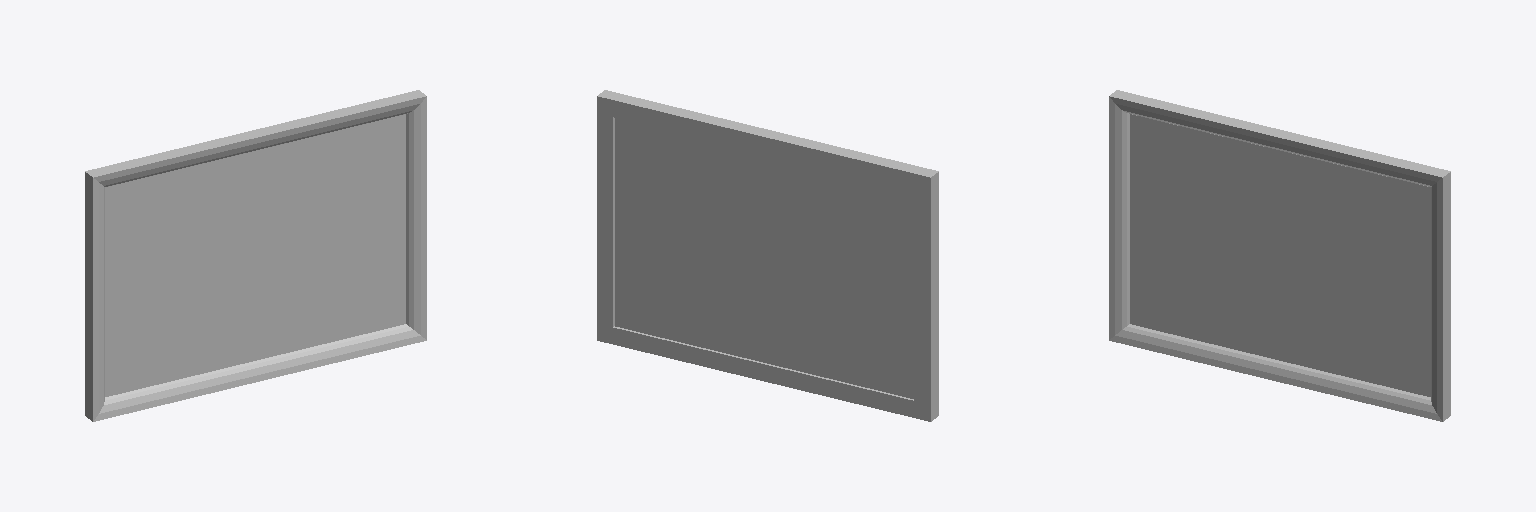
The model's file is frame.obj.
The picture shows the model from 3 angles: view 1: azimuth 30°, elevation 25°; view 2: azimuth 150°, elevation 25°; view 3: azimuth 330°, elevation 25°; orthographic projection.
Visible parts, largest first — view 1: Picture, Frame; view 2: Back, Frame; view 3: Picture, Frame.
Part boxes in pixels (x1,y1,x2,y2): Picture: (105,114,405,396); Frame: (85,90,426,421); Back: (615,118,913,398); Frame: (597,90,938,421); Picture: (1130,114,1430,396); Frame: (1109,90,1450,421).
Bounding box in the file's own units: 0.499 × 0.349 × 0.022.